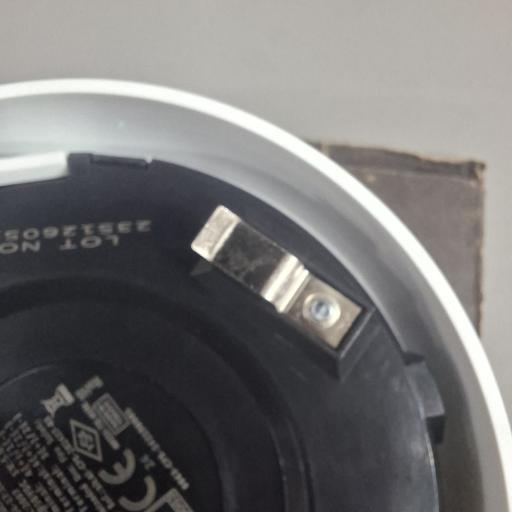yaysiz: (189, 204, 360, 350)
